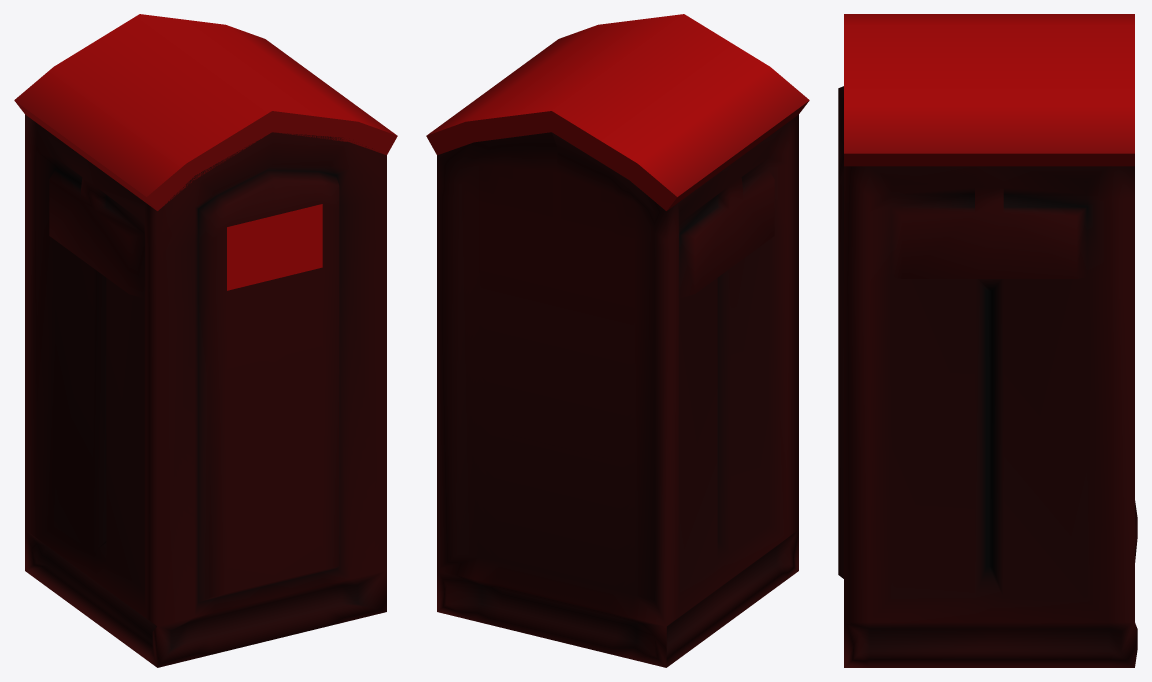
File: PortaPotty.glb
3 renders of one model, left to right at view 1: azimuth 30°, elevation 25°; view 2: azimuth 150°, elevation 25°; view 3: azimuth 270°, elevation 25°, orthographic. The views are drawn at different scales.
Visible parts, largest first — view 1: PortaPotty; view 2: PortaPotty; view 3: PortaPotty.
Boxes of the visible parts, x1=… form: PortaPotty: x1=14, y1=14, x2=397, y2=667; PortaPotty: x1=426, y1=14, x2=809, y2=667; PortaPotty: x1=838, y1=14, x2=1137, y2=667.
Size of the model in its own units: 5.08 by 10.22 by 4.77.
